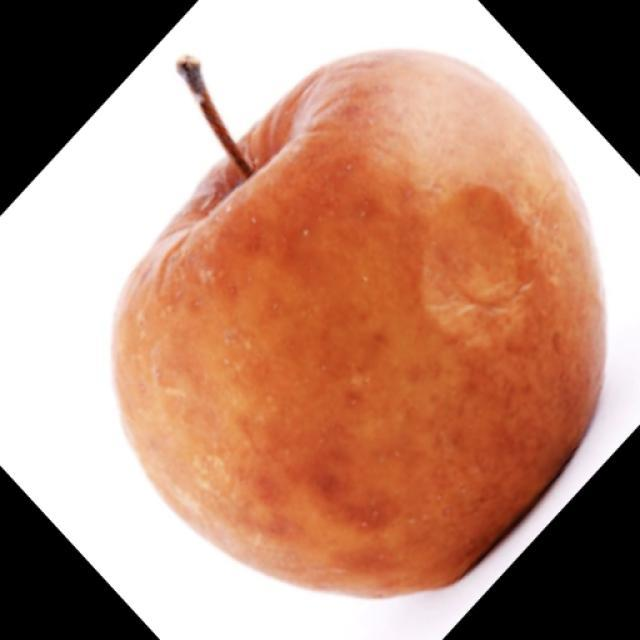Rotten: (132, 58, 602, 580)
